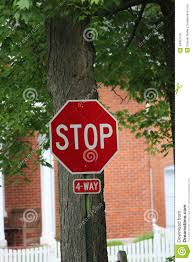stop_sign: (48, 99, 119, 176)
